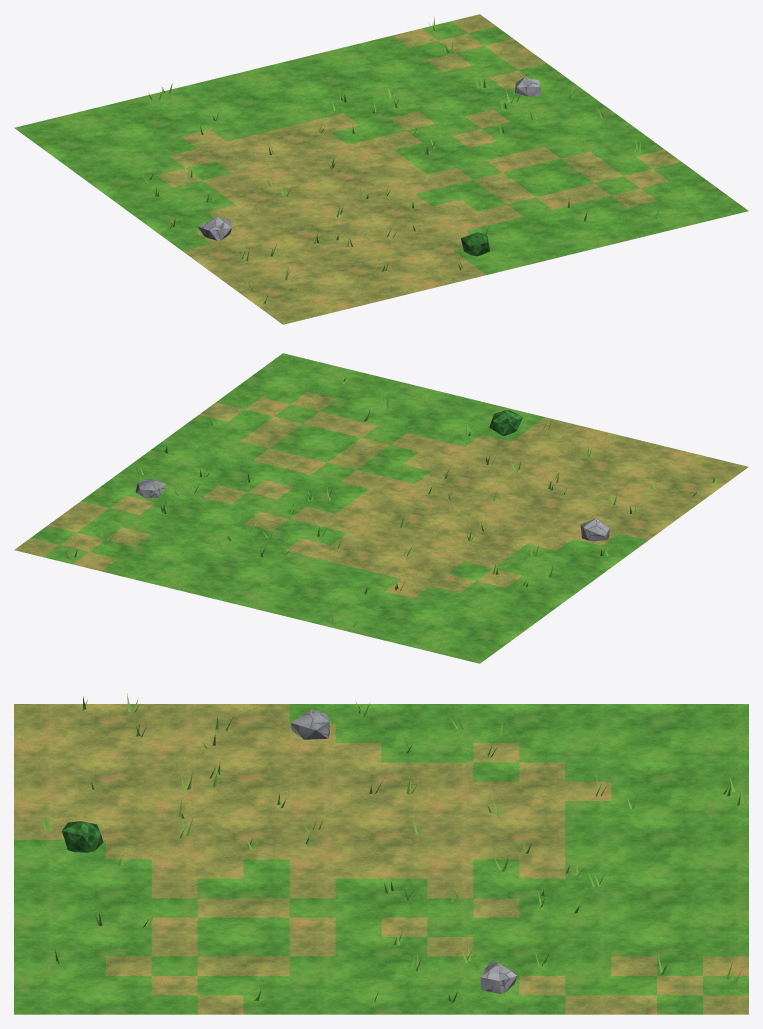
The model's file is chunk_10_4.glb.
3 views of the same model, one above another, from view 1: azimuth 30°, elevation 25°; view 2: azimuth 150°, elevation 25°; view 3: azimuth 270°, elevation 25° (orthographic). The views are drawn at different scales.
Parts seen in each view (by area): view 1: chunk_10_4; view 2: chunk_10_4; view 3: chunk_10_4.
Part boxes in pixels (box(x1,y1,x2,y2)): chunk_10_4: box(14, 14, 748, 324); chunk_10_4: box(14, 353, 748, 663); chunk_10_4: box(14, 693, 748, 1014).
Bounding box in the file's own units: 16 × 1.01 × 16.
Materials: 5 (4 with a texture image).
